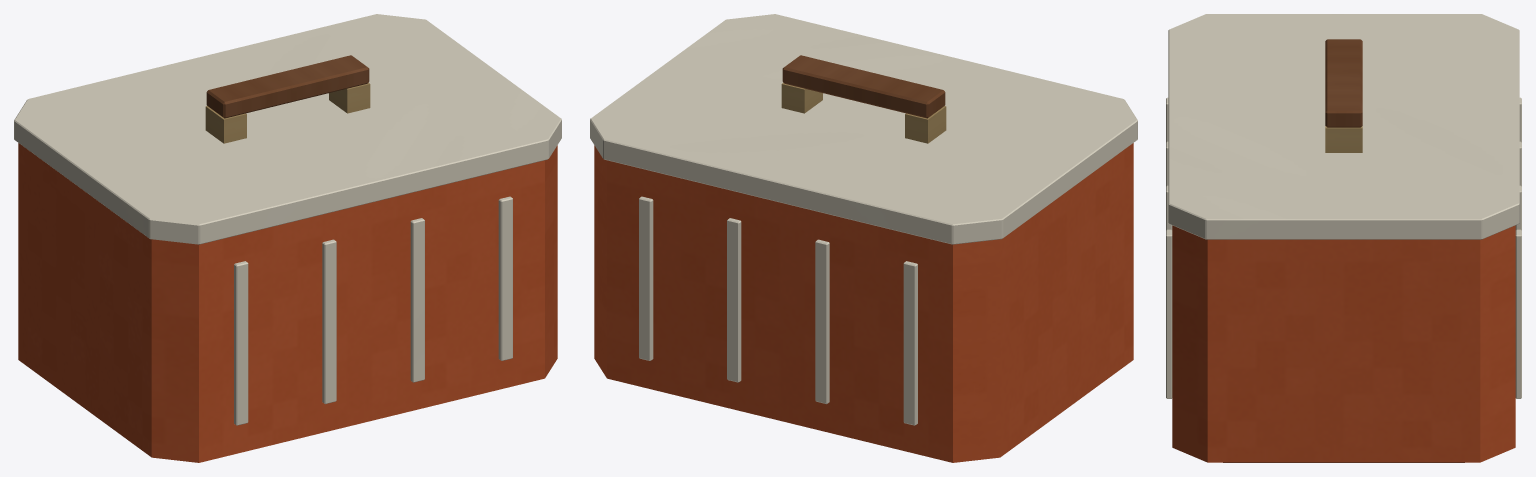
The model's file is AST-RTL-004.glb.
3 renders of one model, left to right at view 1: azimuth 30°, elevation 25°; view 2: azimuth 150°, elevation 25°; view 3: azimuth 270°, elevation 25°, orthographic. The views are drawn at different scales.
Visible parts, largest first — view 1: AST-RTL-004__fixed__retail_terracotta_enamel, AST-RTL-004__lid__ivory_enamel, AST-RTL-004__fixed__ivory_enamel, AST-RTL-004__lid__warm_walnut, AST-RTL-004__lid__champagne_metal; view 2: AST-RTL-004__fixed__retail_terracotta_enamel, AST-RTL-004__lid__ivory_enamel, AST-RTL-004__fixed__ivory_enamel, AST-RTL-004__lid__warm_walnut, AST-RTL-004__lid__champagne_metal; view 3: AST-RTL-004__fixed__retail_terracotta_enamel, AST-RTL-004__lid__ivory_enamel, AST-RTL-004__lid__warm_walnut, AST-RTL-004__fixed__ivory_enamel, AST-RTL-004__lid__champagne_metal.
Boxes of the visible parts, bbox=[...] form: AST-RTL-004__fixed__retail_terracotta_enamel: bbox=[18, 143, 557, 462]; AST-RTL-004__lid__ivory_enamel: bbox=[14, 14, 561, 244]; AST-RTL-004__fixed__ivory_enamel: bbox=[234, 196, 512, 425]; AST-RTL-004__lid__warm_walnut: bbox=[206, 55, 369, 118]; AST-RTL-004__lid__champagne_metal: bbox=[205, 83, 370, 143]; AST-RTL-004__fixed__retail_terracotta_enamel: bbox=[594, 143, 1133, 462]; AST-RTL-004__lid__ivory_enamel: bbox=[590, 14, 1137, 244]; AST-RTL-004__fixed__ivory_enamel: bbox=[639, 196, 917, 425]; AST-RTL-004__lid__warm_walnut: bbox=[782, 55, 945, 118]; AST-RTL-004__lid__champagne_metal: bbox=[781, 83, 946, 143]; AST-RTL-004__fixed__retail_terracotta_enamel: bbox=[1172, 225, 1515, 462]; AST-RTL-004__lid__ivory_enamel: bbox=[1168, 14, 1519, 239]; AST-RTL-004__lid__warm_walnut: bbox=[1325, 39, 1362, 127]; AST-RTL-004__fixed__ivory_enamel: bbox=[1166, 97, 1521, 398]; AST-RTL-004__lid__champagne_metal: bbox=[1325, 126, 1362, 152].
Bounding box in the file's own units: 0.468 × 0.316 × 0.342.
5 materials, 5 textured.
